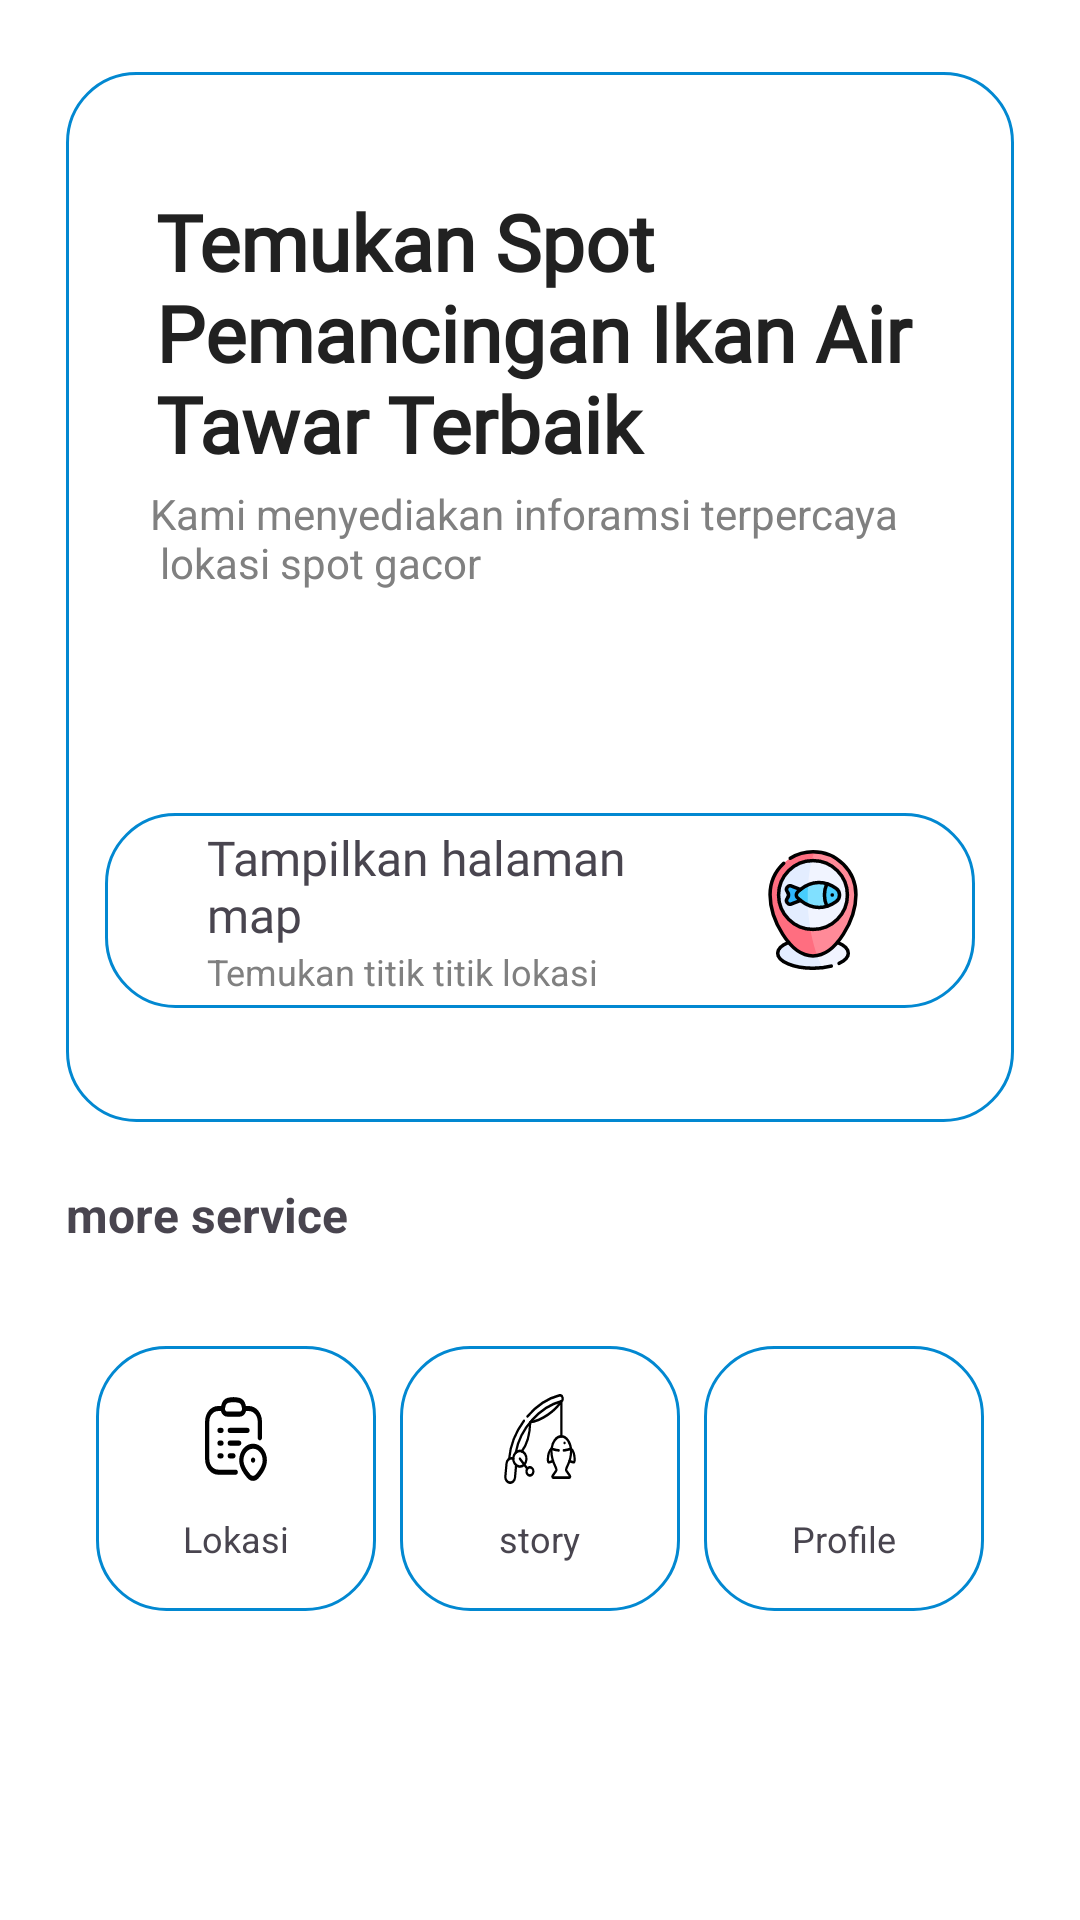

Icons on this 1080×1920 Android screen, each with its box as (x1, y1, x2, y2):
fishing: (504, 1394, 576, 1484)
iakn point: (768, 850, 858, 970)
